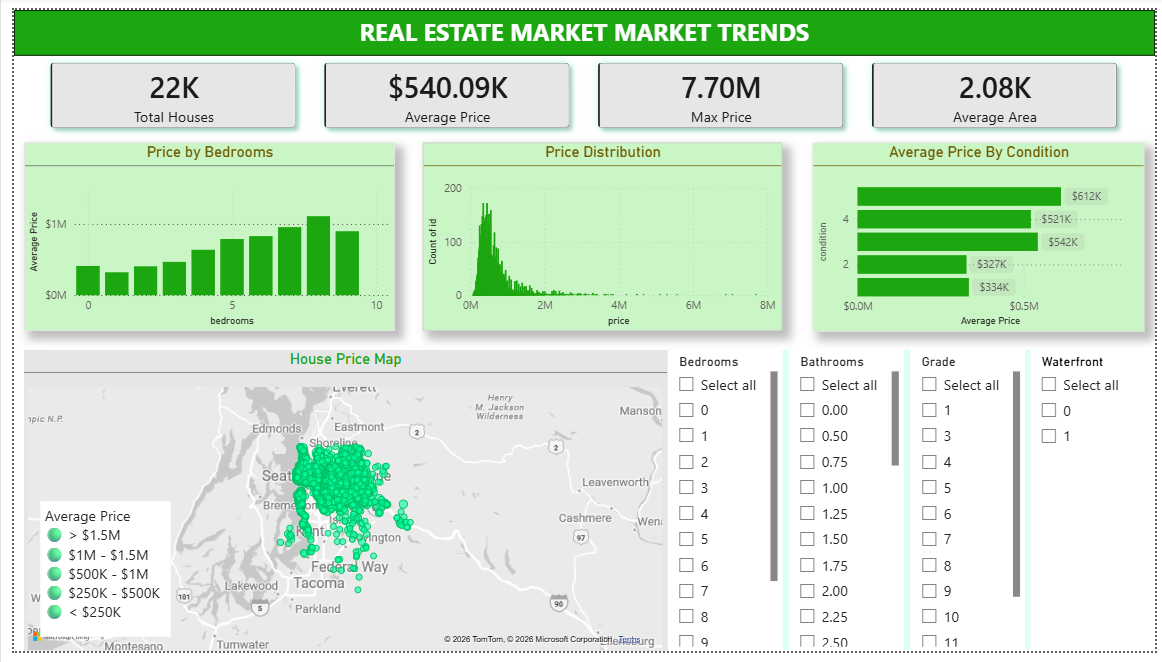

What the dashboard file says about the page in this screenshot:
{"tool":"powerbi","page":{"name":"Page 1","canvas":[1280,720],"ordinal":0},"visuals":[{"type":"map","title":"House Price Map","fields":{"Y":["kc_house_data.lat"],"X":["kc_house_data.long"],"Size":["Avg(kc_house_data.price)"]},"box":[11.4,381.4,721.4,340],"z":0},{"type":"cardVisual","fields":{"Data":["kc_house_data.Total Houses","kc_house_data.Average Price","kc_house_data.Max Price","kc_house_data.Average Area"]},"box":[11.7,30,1256.7,133.3],"z":1000},{"type":"clusteredColumnChart","title":"Price Distribution","fields":{"Category":["kc_house_data.price"],"Y":["CountNonNull(kc_house_data.id)"]},"box":[458.6,148.6,402.9,211.4],"z":2000},{"type":"clusteredBarChart","title":"Average Price By Condition","fields":{"Y":["kc_house_data.Average Price"],"Category":["kc_house_data.condition"]},"box":[896.7,148.3,371.7,211.7],"z":3000},{"type":"group","id":"g1","title":"Group 1","box":[732.9,381.4,535.7,337.1],"z":4000},{"type":"clusteredColumnChart","title":"Price by Bedrooms","fields":{"Category":["kc_house_data.bedrooms"],"Y":["kc_house_data.Average Price"]},"box":[11.4,148.6,415.7,211.4],"z":5000},{"type":"slicer","fields":{"Values":["kc_house_data.bedrooms"]},"box":[732.9,381.4,128.5,337.7],"z":5000,"group":"g3"},{"type":"group","id":"g2","title":"Group 2","box":[732.9,381.4,536.9,337.7],"z":5001,"group":"g1"},{"type":"group","id":"g3","title":"Group 3","box":[732.9,381.4,535.6,337.7],"z":5001,"group":"g2"},{"type":"slicer","fields":{"Values":["Slicer_Bathrooms.bathrooms"]},"box":[869.3,381.4,128.5,337.7],"z":6000,"group":"g3"},{"type":"textbox","box":[30,551.4,146.7,151.7],"z":6000},{"type":"textbox","box":[0,0,1280,51.4],"z":7000},{"type":"slicer","fields":{"Values":["kc_house_data.grade"]},"box":[1004.6,381.4,128.5,337.7],"z":7000,"group":"g3"},{"type":"slicer","fields":{"Values":["kc_house_data.waterfront"]},"box":[1140,381.4,128.5,337.7],"z":8000,"group":"g3"}]}

Visuals, with their boxes in screenshot pixels (x1, y1, x2, y2), scaled from the page's 1280x720 canvas onto the 1162x662 screenshot:
"House Price Map" map: select_region(10, 351, 665, 661)
cardVisual - kc_house_data.Total Houses x kc_house_data.Average Price: select_region(11, 28, 1151, 150)
"Price Distribution" clusteredColumnChart: select_region(416, 137, 782, 331)
"Average Price By Condition" clusteredBarChart: select_region(814, 136, 1151, 331)
"Group 1" group: select_region(665, 351, 1152, 661)
"Price by Bedrooms" clusteredColumnChart: select_region(10, 137, 388, 331)
slicer - kc_house_data.bedrooms: select_region(665, 351, 782, 661)
"Group 2" group: select_region(665, 351, 1153, 661)
"Group 3" group: select_region(665, 351, 1152, 661)
slicer - Slicer_Bathrooms.bathrooms: select_region(789, 351, 906, 661)
textbox: select_region(27, 507, 160, 646)
textbox: select_region(0, 0, 1161, 47)
slicer - kc_house_data.grade: select_region(912, 351, 1029, 661)
slicer - kc_house_data.waterfront: select_region(1035, 351, 1152, 661)
